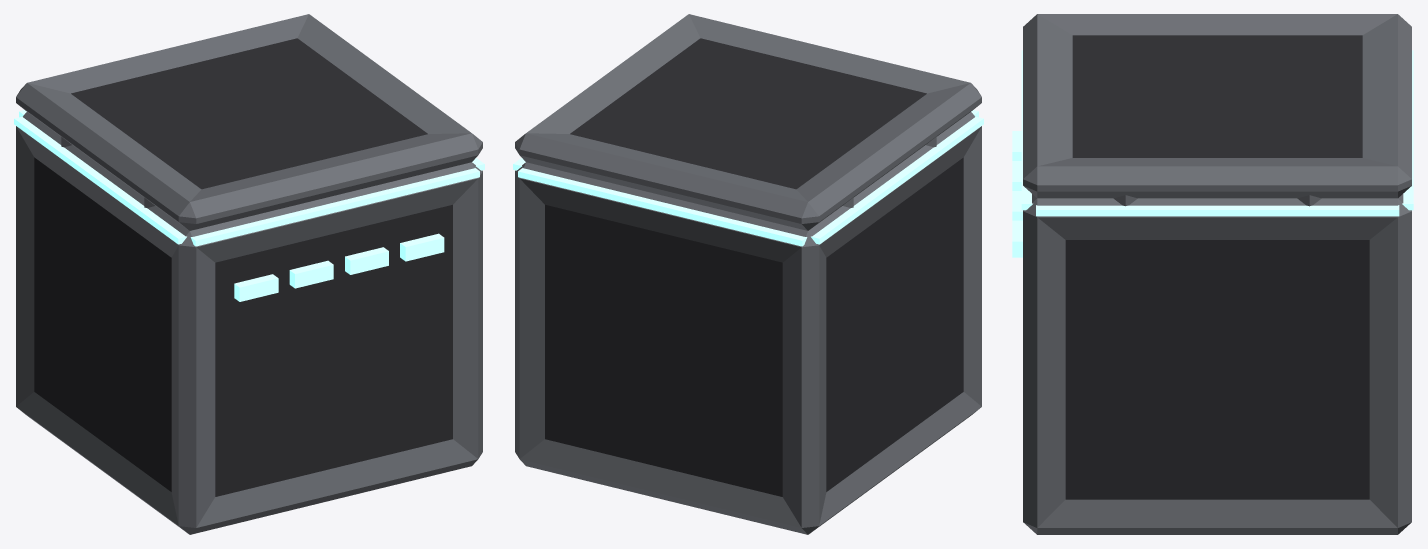
Rendered from FuelPack.fbx.
The picture shows the model from 3 angles, left to right: view 1: azimuth 30°, elevation 25°; view 2: azimuth 150°, elevation 25°; view 3: azimuth 270°, elevation 25°; orthographic projection. The views are drawn at different scales.
Visible parts, largest first — view 1: Base, Lid, Seam, Lamp2, Lamp4, Lamp1, Lamp3; view 2: Base, Lid, Seam; view 3: Base, Lid, Seam.
Boxes of the visible parts, <box> form: Base: <box>16,112,482,534</box>; Lid: <box>16,14,482,230</box>; Seam: <box>14,110,484,246</box>; Lamp2: <box>289,260,333,288</box>; Lamp4: <box>400,233,444,261</box>; Lamp1: <box>234,274,278,301</box>; Lamp3: <box>345,247,388,274</box>; Base: <box>515,112,981,534</box>; Lid: <box>515,14,981,230</box>; Seam: <box>513,110,983,246</box>; Base: <box>1023,194,1411,534</box>; Lid: <box>1023,14,1411,206</box>; Seam: <box>1021,50,1413,216</box>.
Bounding box in the file's own units: 1.11 × 1.15 × 1.13.
